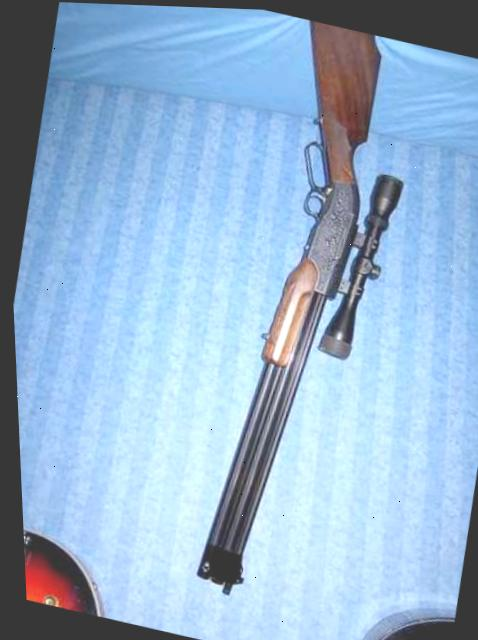rifle: (132, 4, 478, 640)
